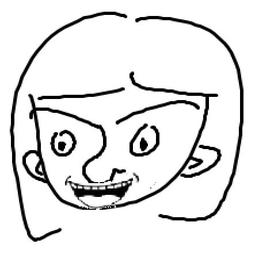ear: (177, 141, 223, 177), (18, 146, 48, 183)
eye: (120, 118, 168, 157), (51, 125, 78, 160)
frowning_eyebrow: (115, 98, 202, 121), (32, 107, 101, 129)
large_nose: (78, 129, 126, 183)
open_mouth: (68, 178, 135, 210)
